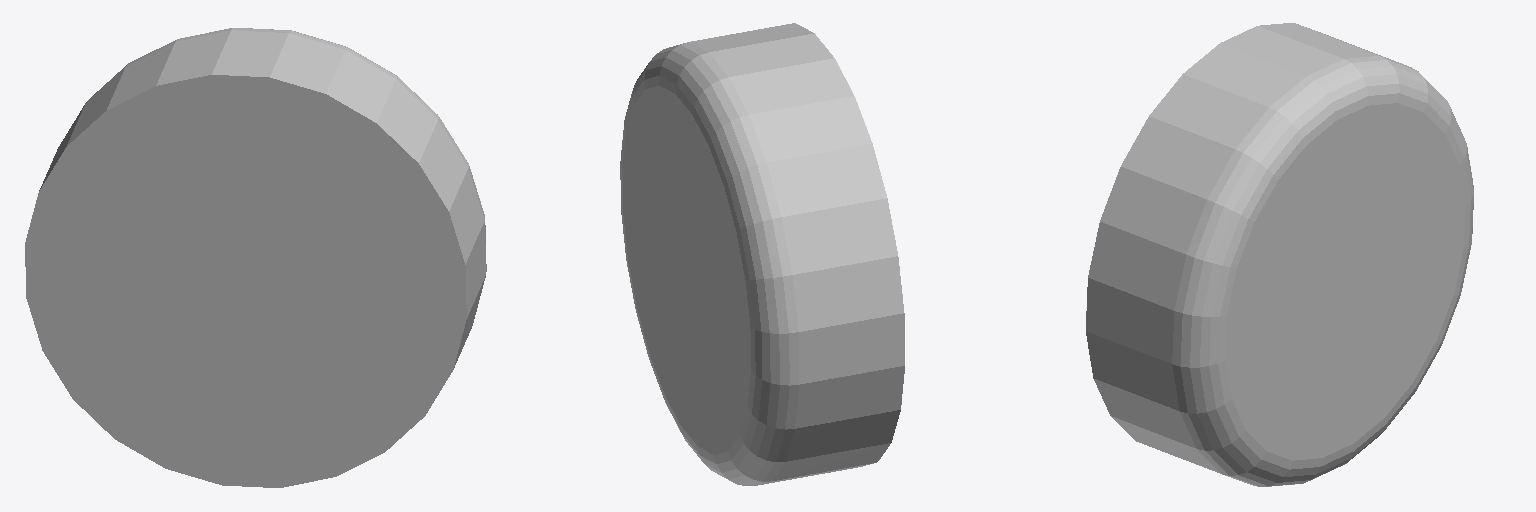
File: original-21.obj
The picture shows the model from 3 angles: view 1: azimuth 30°, elevation 25°; view 2: azimuth 150°, elevation 25°; view 3: azimuth 270°, elevation 25°; orthographic projection.
Visible parts, largest first — view 1: Component_5_16/Component_5/mesh11/mesh11-geometry#mesh11-geometr; view 2: Component_5_16/Component_5/mesh11/mesh11-geometry#mesh11-geometr; view 3: Component_5_16/Component_5/mesh11/mesh11-geometry#mesh11-geometr.
Part boxes in pixels (bbox=[...]): Component_5_16/Component_5/mesh11/mesh11-geometry#mesh11-geometr: bbox=[25, 28, 486, 487]; Component_5_16/Component_5/mesh11/mesh11-geometry#mesh11-geometr: bbox=[620, 23, 904, 485]; Component_5_16/Component_5/mesh11/mesh11-geometry#mesh11-geometr: bbox=[1086, 23, 1473, 486].
Size of the model in its own units: 0.0534 by 0.0568 by 0.0489.